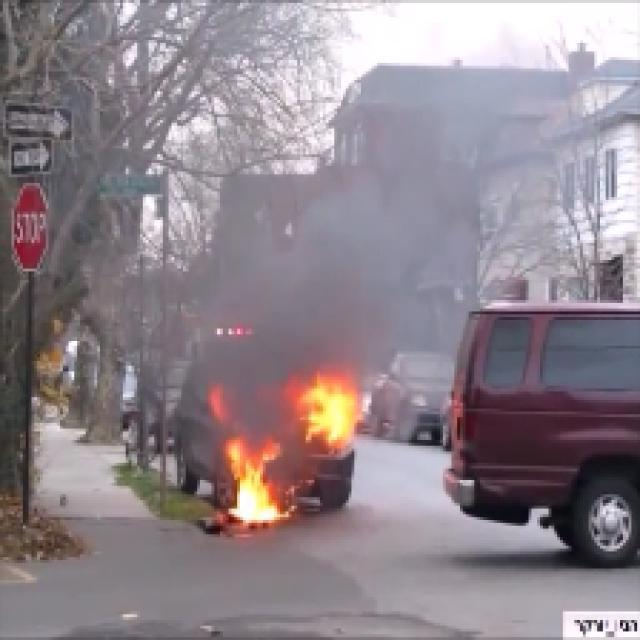Fire: (216, 377, 352, 531)
Smoke: (270, 198, 428, 363)
